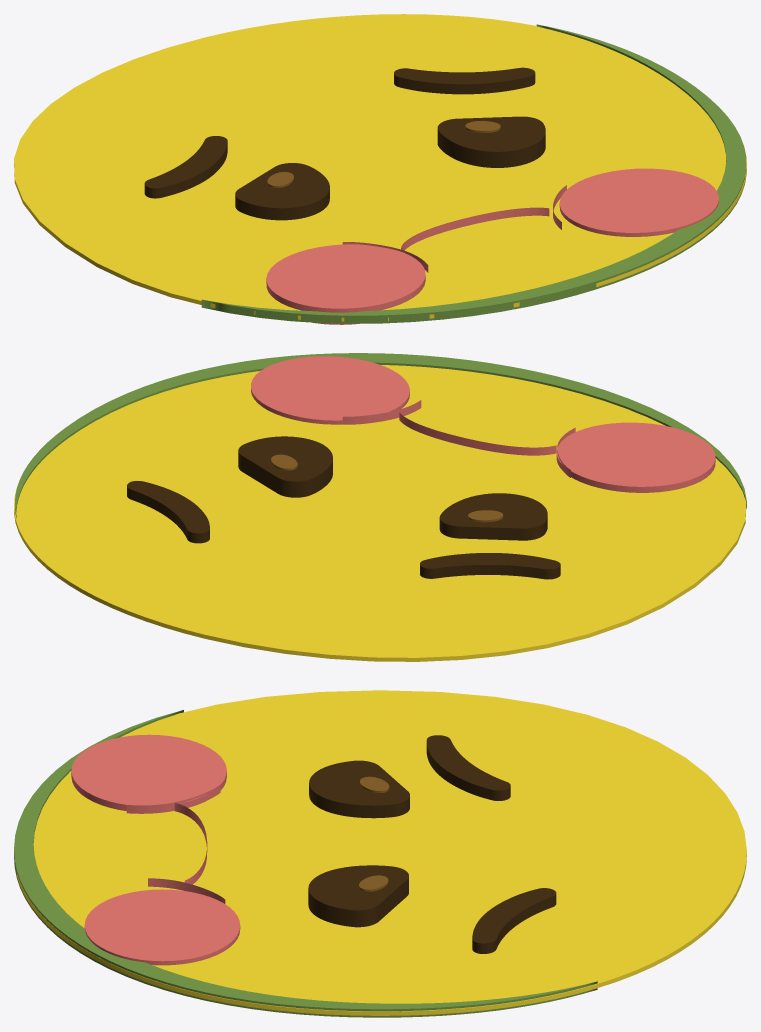
File: emoji_u1f922.glb
3 renders of one model, top to bottom at view 1: azimuth 30°, elevation 25°; view 2: azimuth 150°, elevation 25°; view 3: azimuth 270°, elevation 25°, orthographic. The views are drawn at different scales.
Parts seen in each view (by area): view 1: emoji_u1f922; view 2: emoji_u1f922; view 3: emoji_u1f922.
Part boxes in pixels (x1,y1,x2,y2): emoji_u1f922: (14,14,746,324); emoji_u1f922: (14,353,746,661); emoji_u1f922: (14,690,746,1017).
Bounding box in the file's own units: 0.0327 × 0.002 × 0.0315.
